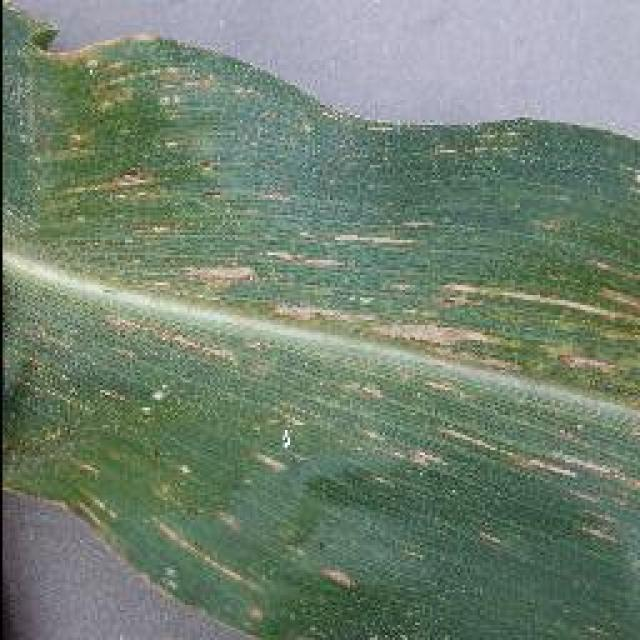Corn_Grey_Leaf_Spot: (0, 60, 632, 625)
